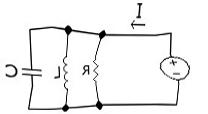Battery: (151, 51, 198, 86)
